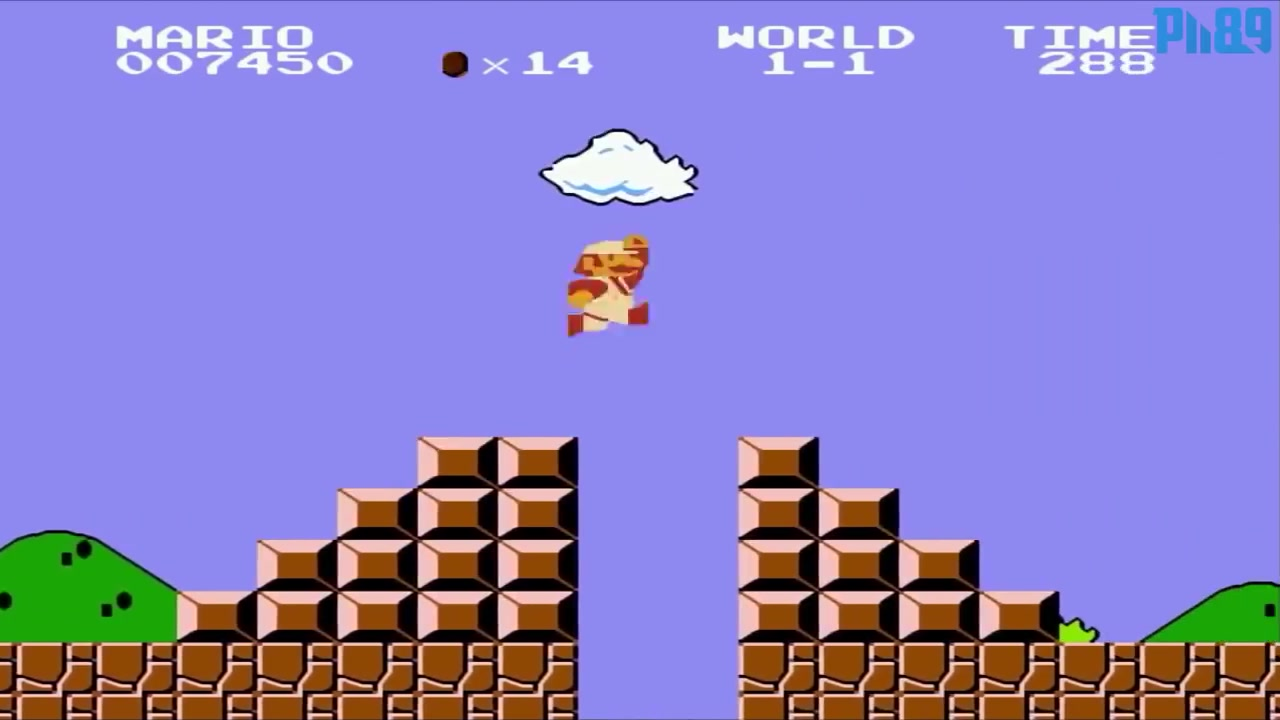mario: (557, 223, 657, 349)
